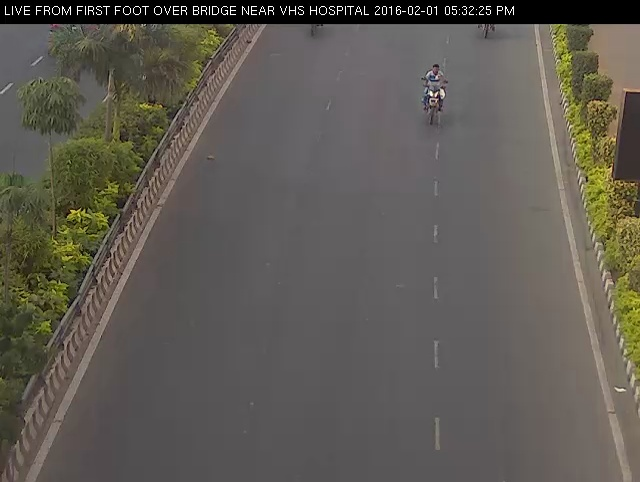Person: (415, 58, 454, 130), (471, 9, 505, 42)
